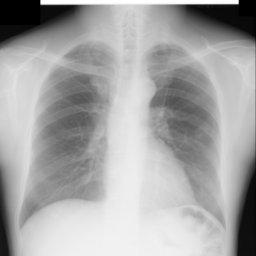left lobe: (148, 45, 224, 220)
right lobe: (21, 45, 114, 224)
